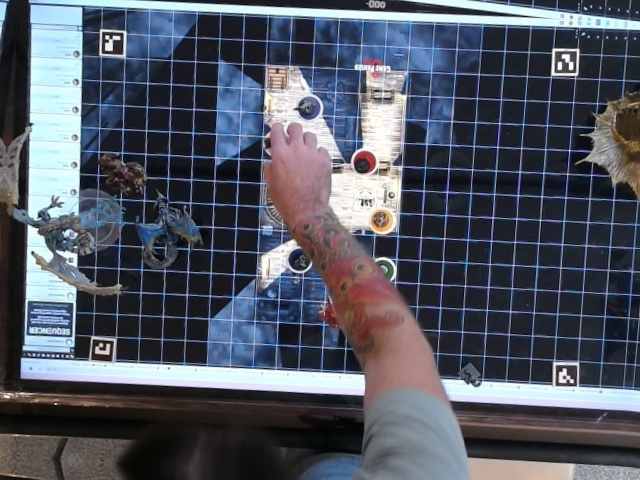blue: (281, 241, 317, 275)
green: (366, 253, 402, 285)
pink: (260, 123, 296, 160)
red: (348, 143, 379, 177)
violet: (292, 92, 329, 125)
yellow: (365, 205, 397, 237)
